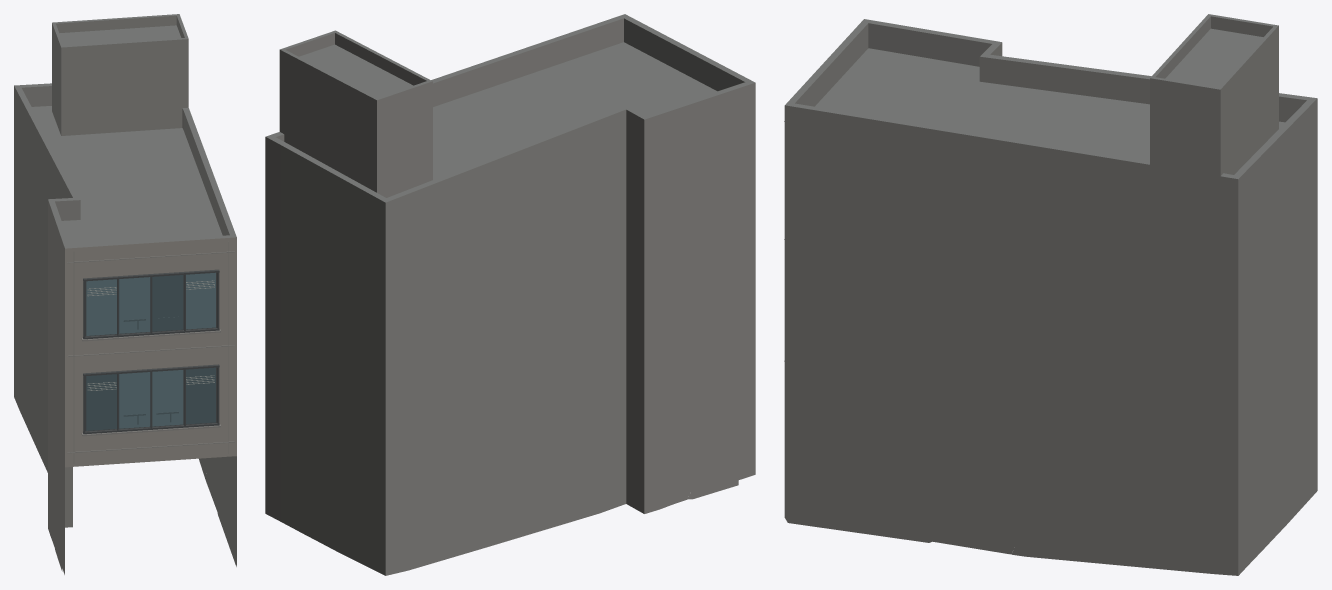
The model's file is envelope.glb.
3 renders of one model, left to right at view 1: azimuth 30°, elevation 25°; view 2: azimuth 150°, elevation 25°; view 3: azimuth 270°, elevation 25°, orthographic. The views are drawn at different scales.
Visible parts, largest first — view 1: D04_Attagirl_SourceEnvelope_InferredUpper_v002; view 2: D04_Attagirl_SourceEnvelope_InferredUpper_v002; view 3: D04_Attagirl_SourceEnvelope_InferredUpper_v002.
Part boxes in pixels (left/top/right/bottom): D04_Attagirl_SourceEnvelope_InferredUpper_v002: left=14, top=14, right=236, bottom=574; D04_Attagirl_SourceEnvelope_InferredUpper_v002: left=265, top=14, right=755, bottom=575; D04_Attagirl_SourceEnvelope_InferredUpper_v002: left=784, top=14, right=1317, bottom=575.
Size of the model in its own units: 8.74 by 12.82 by 12.28.
